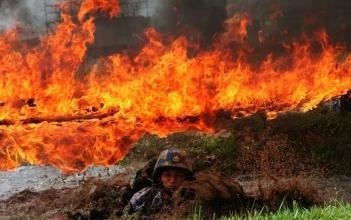fire: (49, 9, 351, 148)
